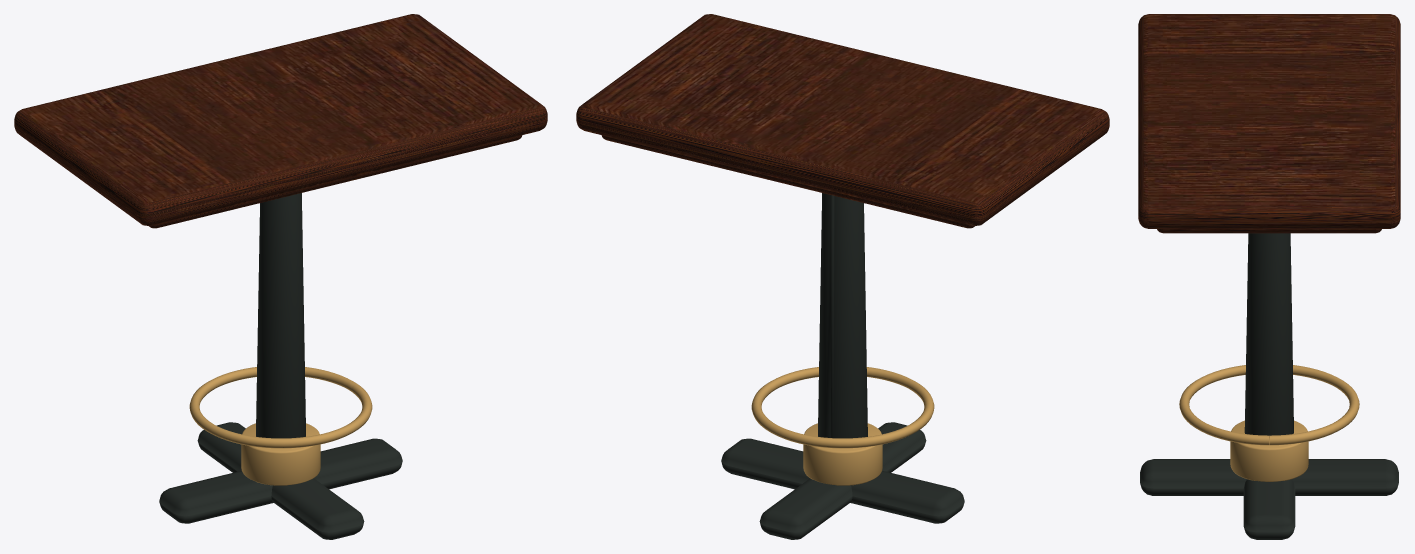
File: oak-pub-table.glb
3 views of the same model, side by side, from view 1: azimuth 30°, elevation 25°; view 2: azimuth 150°, elevation 25°; view 3: azimuth 270°, elevation 25° (orthographic).
Parts seen in each view (by area): view 1: oak-pub-table; view 2: oak-pub-table; view 3: oak-pub-table.
Part boxes in pixels (x1,y1,x2,y2): oak-pub-table: (14,14,547,539); oak-pub-table: (576,14,1109,539); oak-pub-table: (1138,14,1400,539).
Bounding box in the file's own units: 2.62 × 2.37 × 1.48.
Materials: 3 (1 with a texture image).
